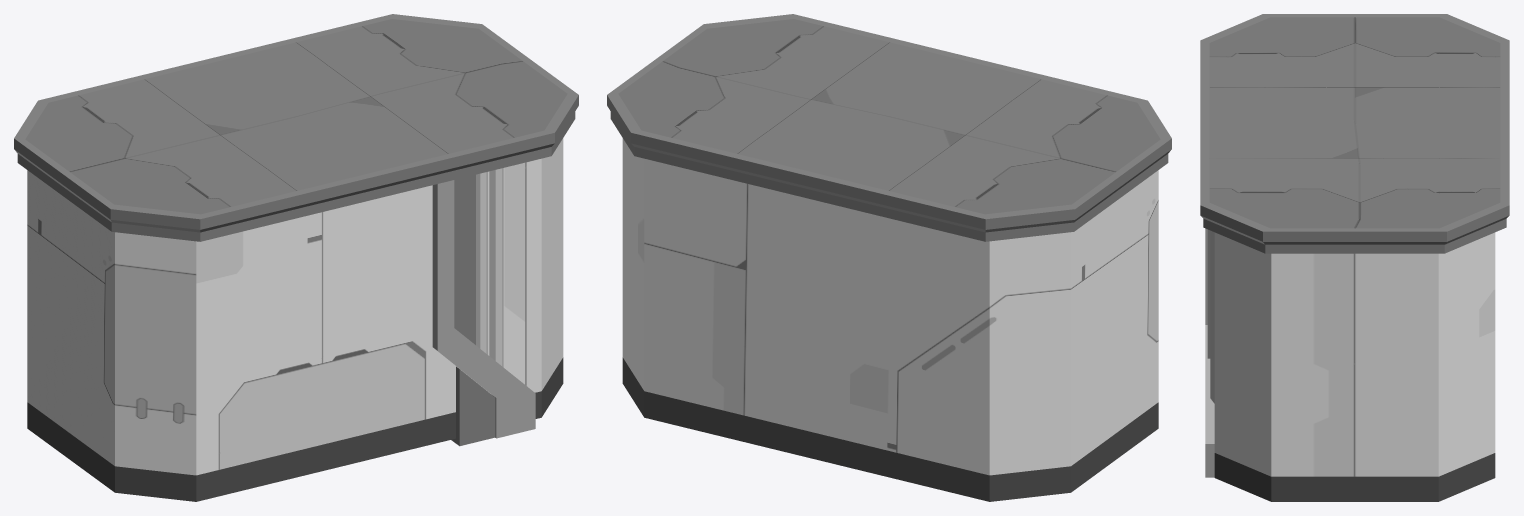
Rendered from SM_Platform_3x5_2.fbx.
3 views of the same model, side by side, from view 1: azimuth 30°, elevation 25°; view 2: azimuth 150°, elevation 25°; view 3: azimuth 270°, elevation 25° (orthographic). The views are drawn at different scales.
Parts seen in each view (by area): view 1: SM_Platform_3x5_2; view 2: SM_Platform_3x5_2; view 3: SM_Platform_3x5_2.
Boxes of the visible parts, x1,y1,x2,y2 form: SM_Platform_3x5_2: (14, 14, 578, 501); SM_Platform_3x5_2: (607, 14, 1171, 501); SM_Platform_3x5_2: (1200, 14, 1509, 501).
Bounding box in the file's own units: 500 × 300 × 300.
